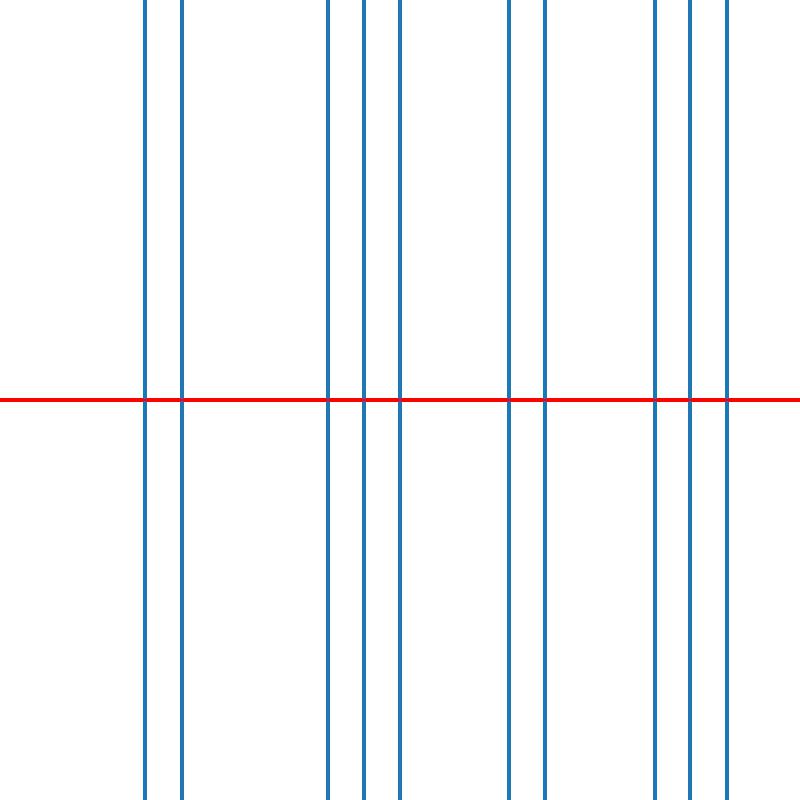root: (541, 396, 549, 404), (141, 396, 149, 404), (650, 396, 658, 404), (396, 396, 403, 404), (687, 396, 694, 404), (360, 396, 367, 404), (323, 396, 330, 404), (723, 396, 730, 404), (178, 396, 185, 404), (505, 396, 512, 404)
